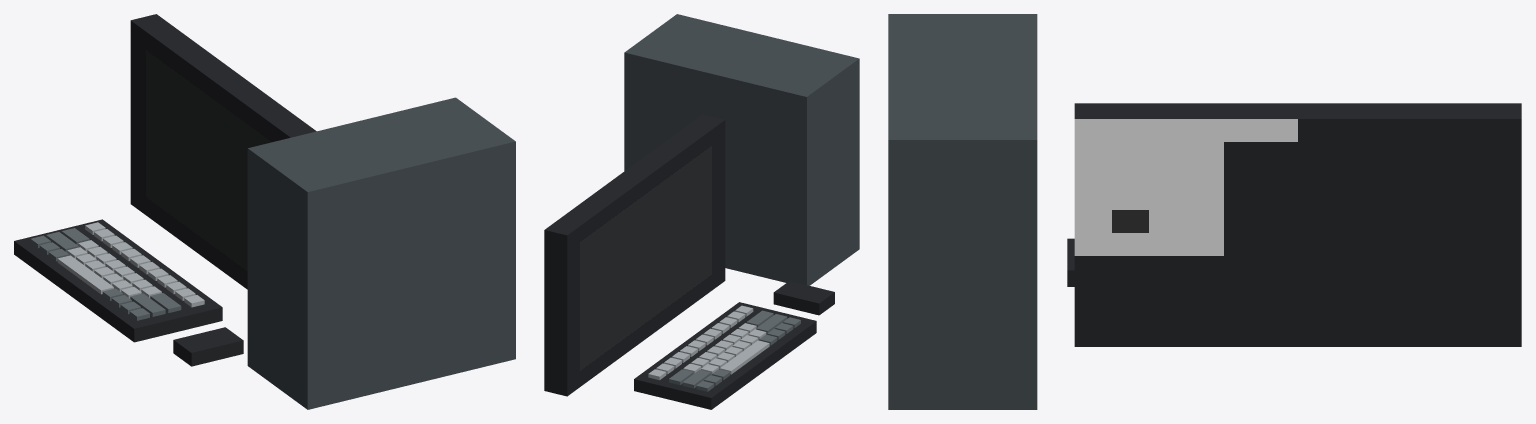
File: computadora.gltf
3 renders of one model, left to right at view 1: azimuth 30°, elevation 25°; view 2: azimuth 150°, elevation 25°; view 3: azimuth 270°, elevation 25°, orthographic. The views are drawn at different scales.
Parts seen in each view (by area): view 1: cuboid (×3), cube (×2); view 2: cuboid (×3), cube (×4); view 3: cube, cuboid.
Boxes of the visible parts, <box> form: cuboid (×3): <box>14,97,515,409</box>; cube (×2): <box>57,14,316,294</box>; cuboid (×3): <box>624,14,859,409</box>; cube (×4): <box>544,114,787,396</box>; cube: <box>1074,103,1521,346</box>; cuboid: <box>888,14,1037,409</box>.
Size of the model in its own units: 0.65 by 0.5 by 1.06.
5 materials, 5 textured.
